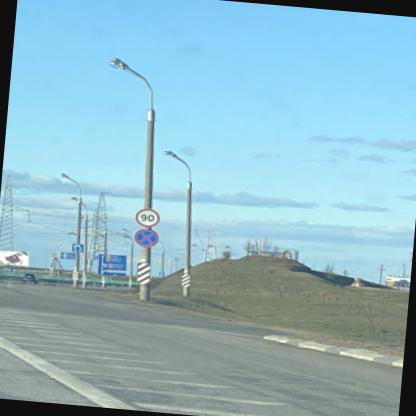speedlimit: (133, 206, 159, 226)
